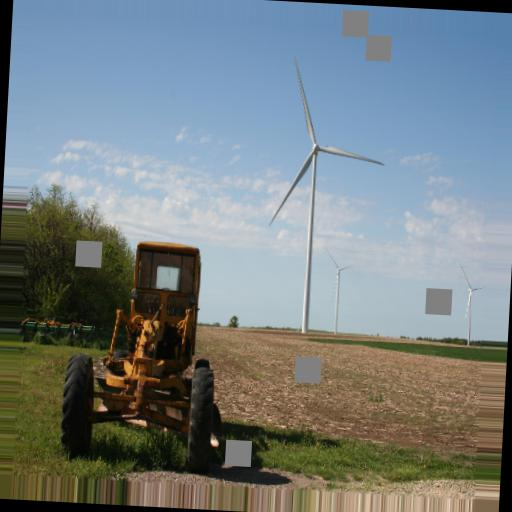wind turbine: (268, 56, 385, 333), (325, 250, 357, 339), (458, 264, 485, 346)
